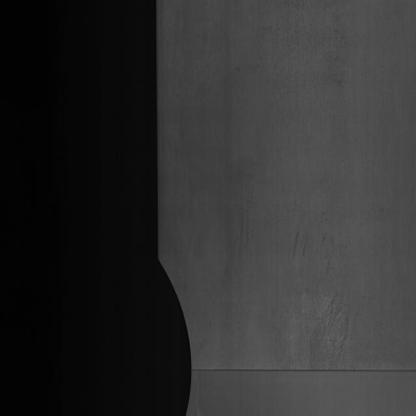welding_line: (180, 351, 414, 388)
